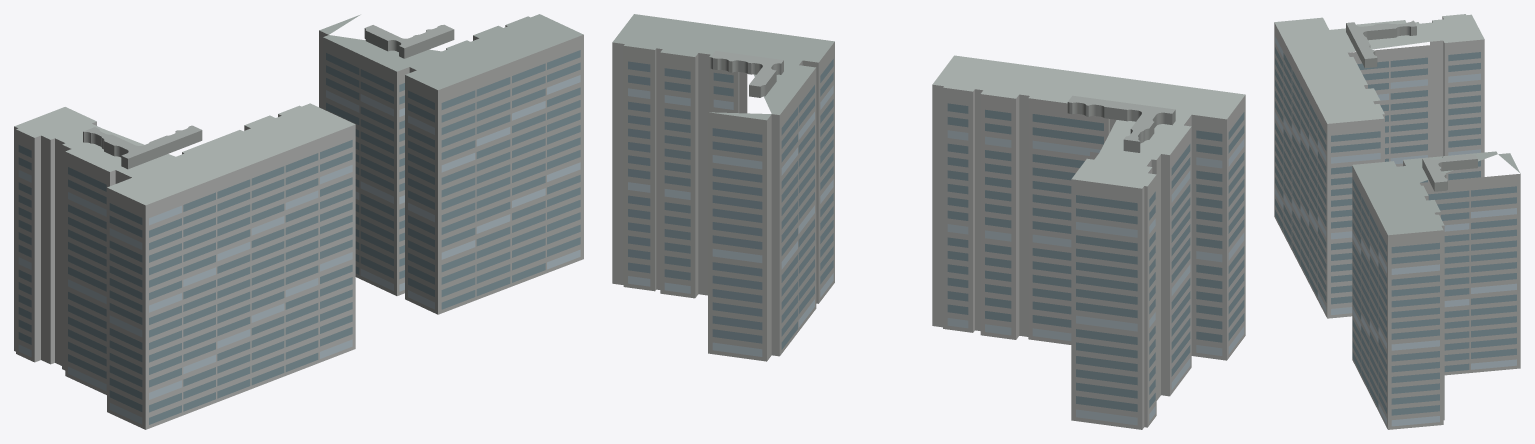
The model's file is apt-a13510203.glb.
3 renders of one model, left to right at view 1: azimuth 30°, elevation 25°; view 2: azimuth 150°, elevation 25°; view 3: azimuth 270°, elevation 25°, orthographic. The views are drawn at different scales.
Visible parts, largest first — view 1: apt-a13510203; view 2: apt-a13510203; view 3: apt-a13510203.
Boxes of the visible parts, <box> form: apt-a13510203: <box>14,14,583,429</box>; apt-a13510203: <box>612,14,1245,429</box>; apt-a13510203: <box>1274,14,1520,429</box>.
Bounding box in the file's own units: 112 × 48 × 52.55.
